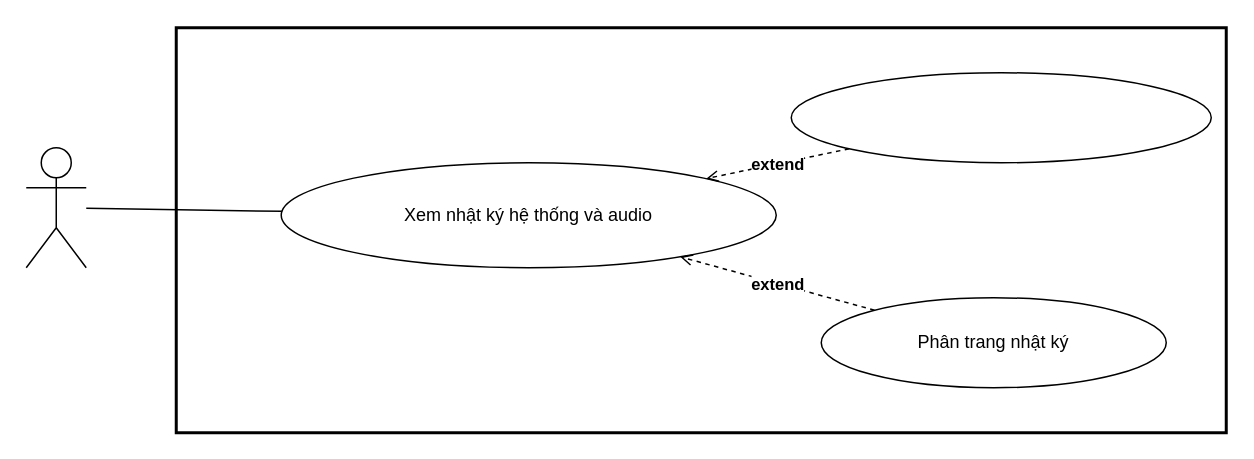
Image size: 1254x459. Some labels were removed from this diagram. The centre of each missing label's shape, as x and y in pixels:
"Admin" belongs at point 55,207.
"Tự động làm mới nhật ký" belongs at point 1000,117.
